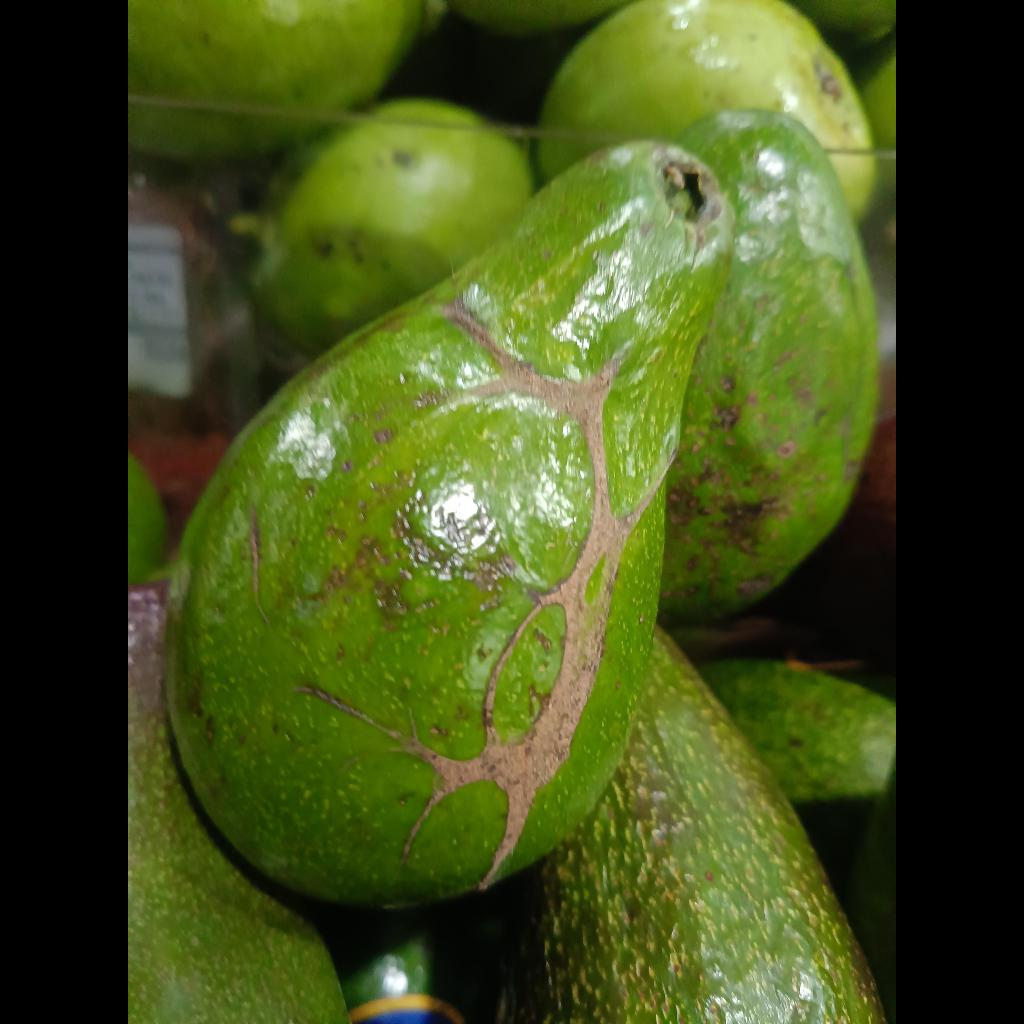scab: (166, 142, 734, 905)
